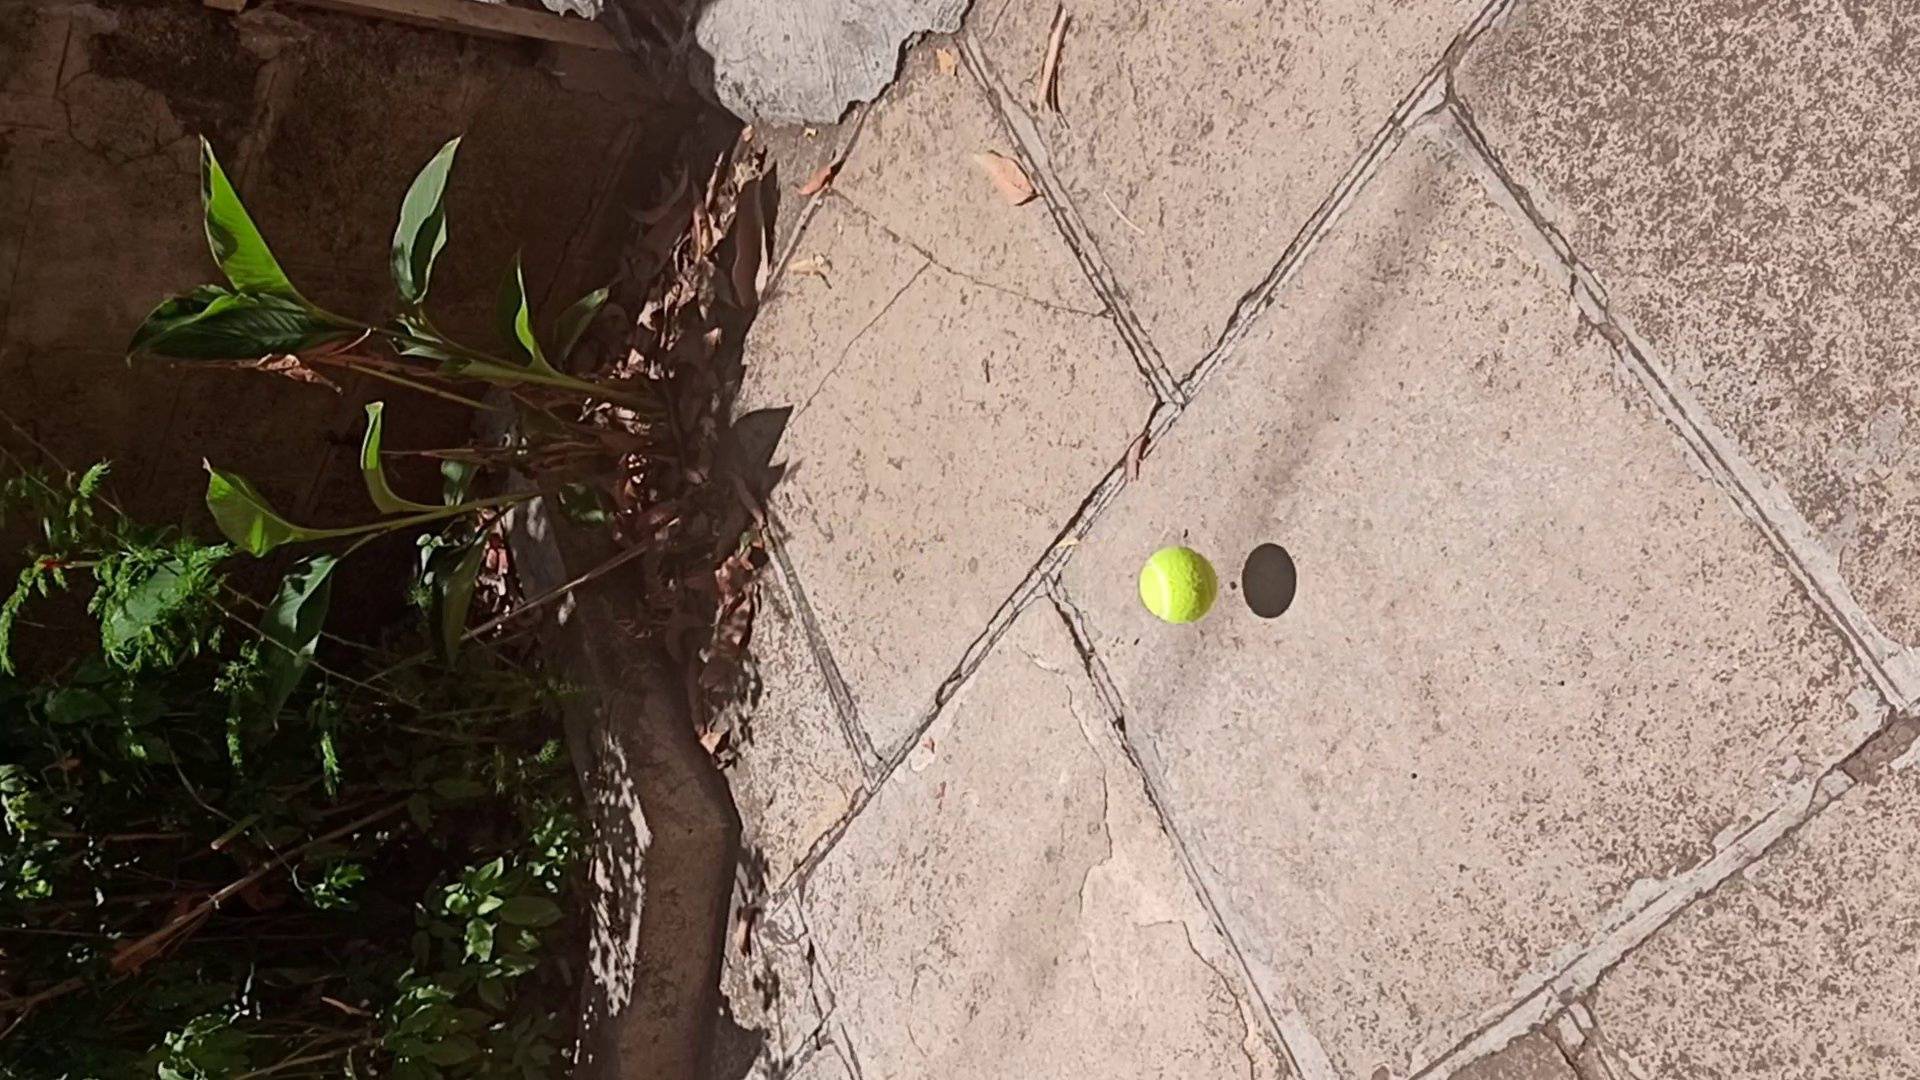Tennis-Ball: (1138, 545, 1218, 624)
